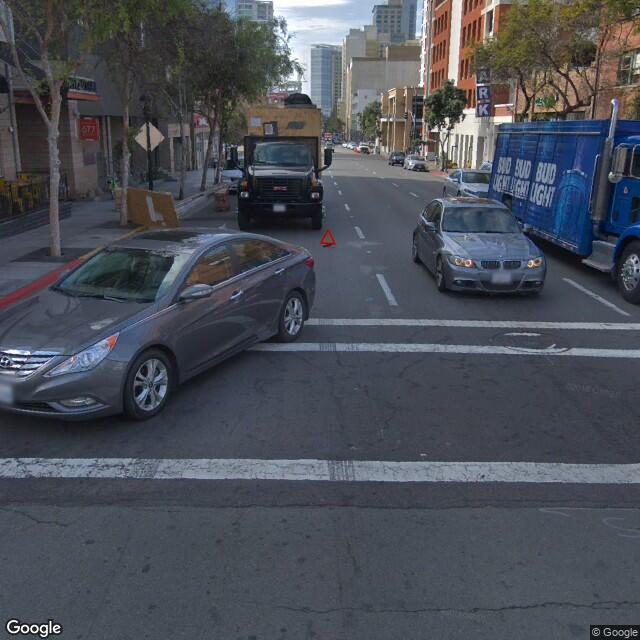road line: (345, 199, 406, 308)
